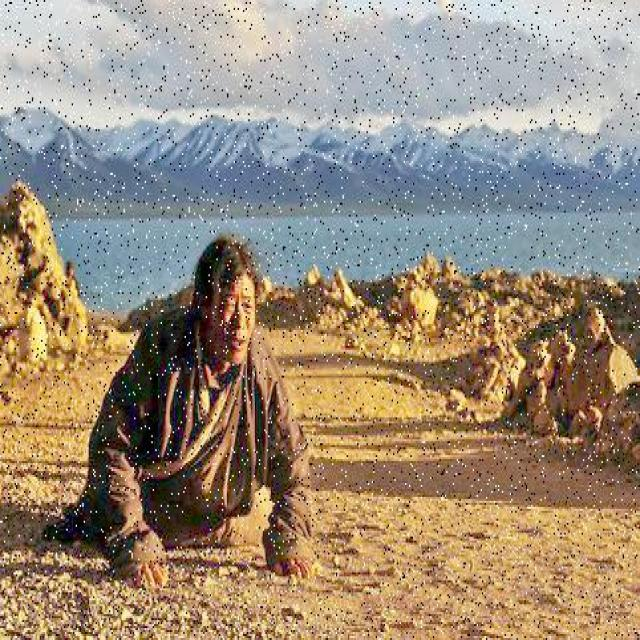fall: (78, 236, 320, 584)
